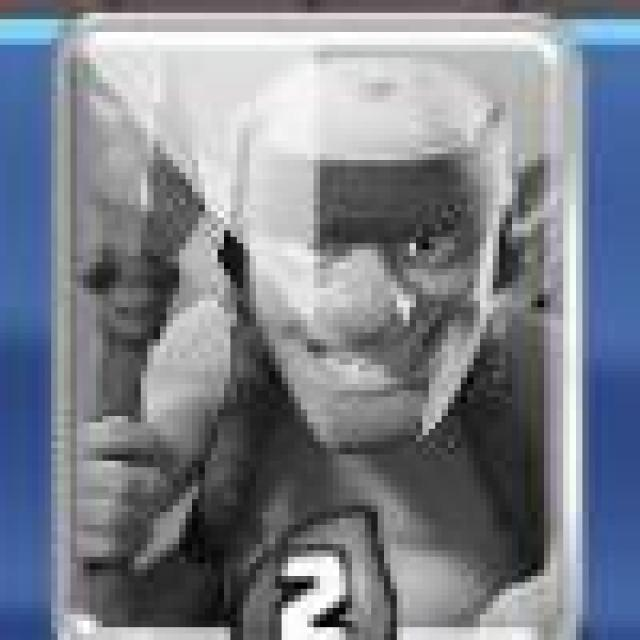Spear_Goblins: (61, 16, 582, 640)
